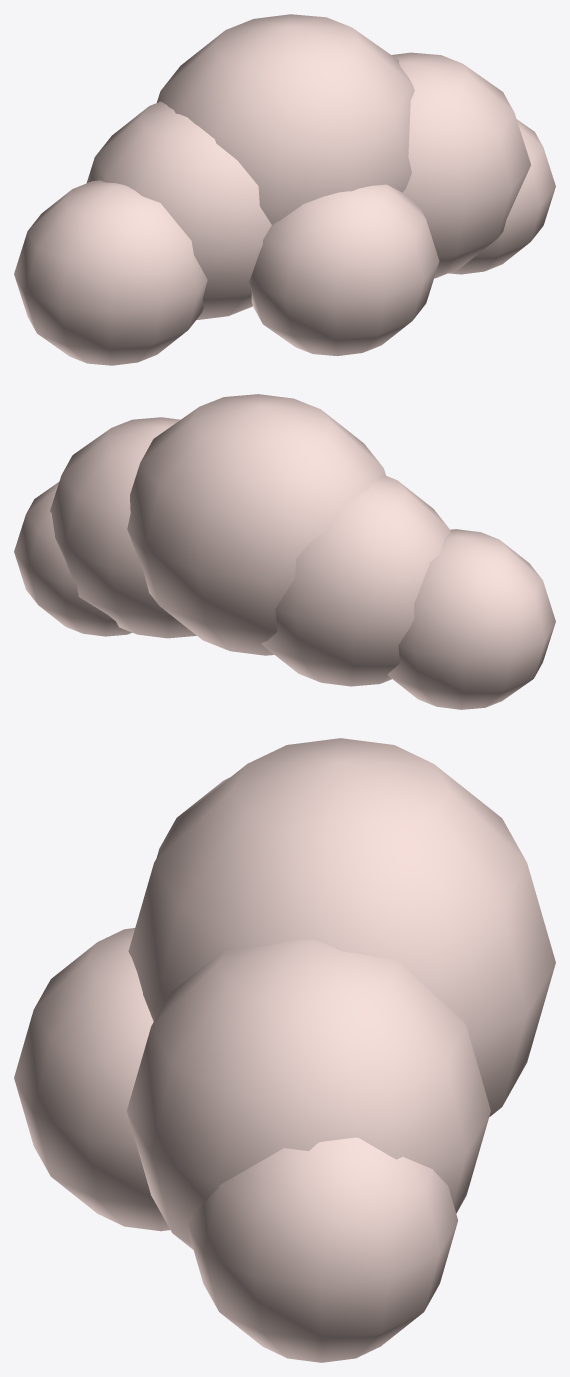
The model's file is cloud_puff_2.glb.
3 views of the same model, one above another, from view 1: azimuth 30°, elevation 25°; view 2: azimuth 150°, elevation 25°; view 3: azimuth 270°, elevation 25° (orthographic). The views are drawn at different scales.
Parts seen in each view (by area): view 1: cloud_puff_2; view 2: cloud_puff_2; view 3: cloud_puff_2.
Part boxes in pixels (x1=…): cloud_puff_2: x1=14, y1=14, x2=555, y2=365; cloud_puff_2: x1=14, y1=394, x2=555, y2=709; cloud_puff_2: x1=14, y1=738, x2=555, y2=1362.
Size of the model in its own units: 4.77 by 2.4 by 2.6.
